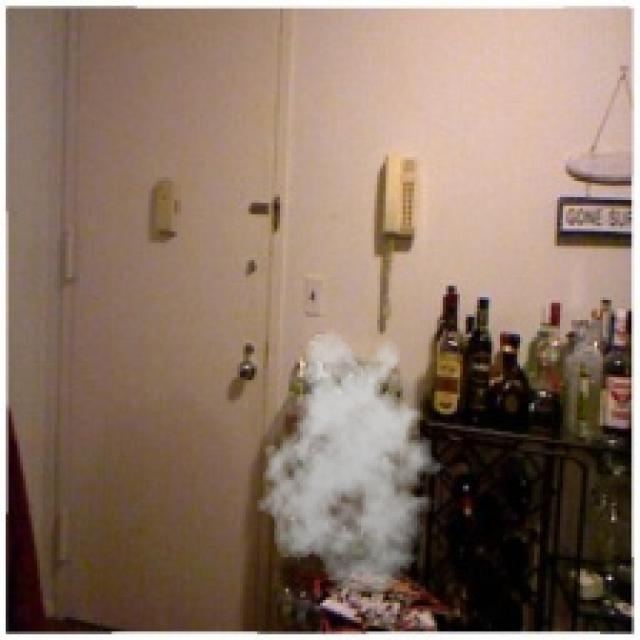smoke: (252, 329, 454, 597)
